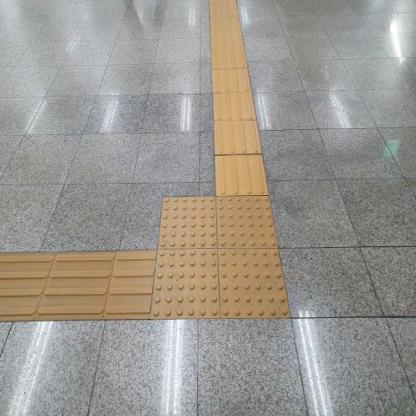podotacti: (121, 148, 319, 356), (207, 1, 269, 197), (0, 247, 148, 326)
